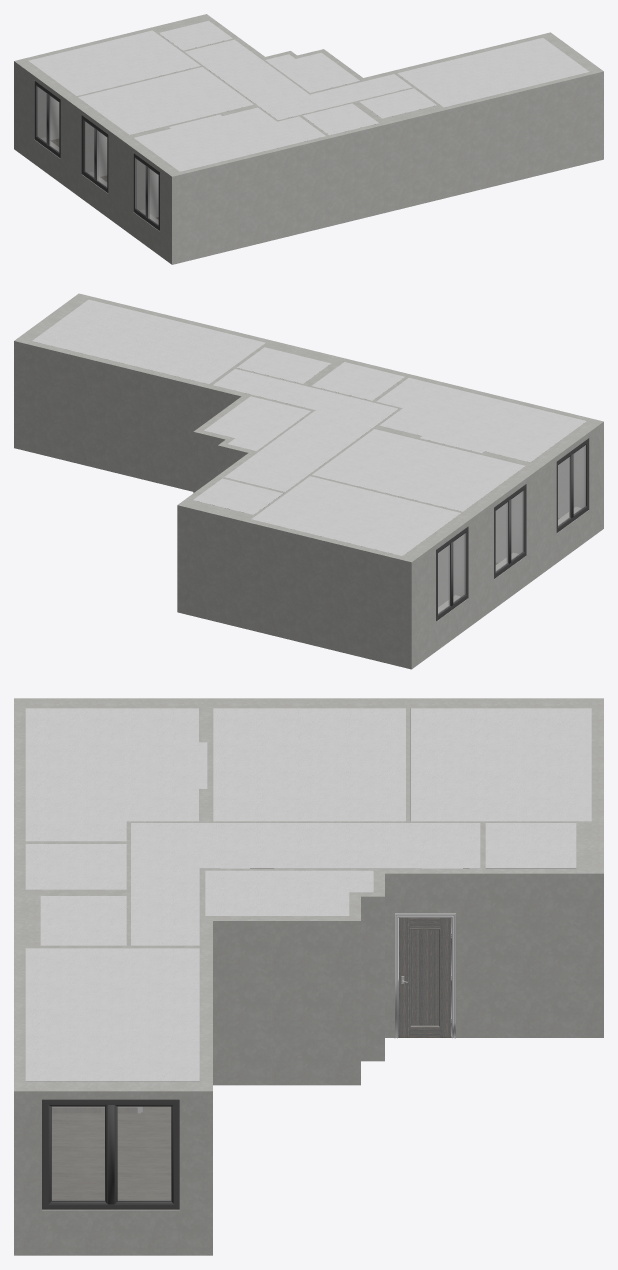
File: apt-3room.glb
3 views of the same model, one above another, from view 1: azimuth 30°, elevation 25°; view 2: azimuth 150°, elevation 25°; view 3: azimuth 270°, elevation 25° (orthographic). The views are drawn at different scales.
Visible parts, largest first — view 1: Walls, Ceiling, B_2_4_1Exterior_Glass.001, B_2_4_2_Exterior_Glass..001, B_2_1_1_PVC_Window_Frame.002, B_2_4_1Exterior_Glass.002, B_2_4_1Exterior_Glass.003, B_2_4_2_Exterior_Glass..003, B_2_4_2_Exterior_Glass..002, B_2_1_1_PVC_Window_Frame.003, B_2_1_1_PVC_Window_Frame.001, B_2_4_3_Interior_Glass..002 (+5 smaller); view 2: Walls, Ceiling, B_2_4_1Exterior_Glass.002, B_2_4_1Exterior_Glass.003, B_2_4_3_Interior_Glass..002, B_2_4_1Exterior_Glass.001, B_2_4_2_Exterior_Glass..002, B_2_4_2_Exterior_Glass..001, B_2_4_2_Exterior_Glass..003, B_2_1_1_PVC_Window_Frame.002, B_2_4_3_Interior_Glass..001, B_2_4_4_Interior_Glass.002 (+5 smaller); view 3: Ceiling, Walls, Floor, Shaker_Door_1981 _762, B_2_4_1Exterior_Glass, B_2_4_2_Exterior_Glass., B_2_4_3_Interior_Glass., B_2_4_4_Interior_Glass, B_2_1_1_PVC_Window_Frame, Basic_Door_Frame_1981_762, B_2_3_1_Frame_Glass, B_2_3_2_Frame_Glass.
Part boxes in pixels (x1,y1,x2,y2): Walls: (14,14,603,264); Ceiling: (28,20,589,171); B_2_4_1Exterior_Glass.001: (148,168,158,224); B_2_4_2_Exterior_Glass..001: (135,158,145,215); B_2_1_1_PVC_Window_Frame.002: (81,115,108,192); B_2_4_1Exterior_Glass.002: (97,130,106,187); B_2_4_1Exterior_Glass.003: (49,96,58,152); B_2_4_2_Exterior_Glass..003: (37,86,46,142); B_2_4_2_Exterior_Glass..002: (84,121,93,177); B_2_1_1_PVC_Window_Frame.003: (34,81,60,158); B_2_1_1_PVC_Window_Frame.001: (133,153,159,230); B_2_4_3_Interior_Glass..002: (97,131,106,186); Walls: (14,293,603,669); Ceiling: (32,299,586,555); B_2_4_1Exterior_Glass.002: (511,491,523,560); B_2_4_1Exterior_Glass.003: (453,533,465,602); B_2_4_3_Interior_Glass..002: (511,491,523,559); B_2_4_1Exterior_Glass.001: (574,445,585,514); B_2_4_2_Exterior_Glass..002: (496,502,507,571); B_2_4_2_Exterior_Glass..001: (558,457,569,525); B_2_4_2_Exterior_Glass..003: (438,545,449,613); B_2_1_1_PVC_Window_Frame.002: (494,484,526,578); B_2_4_3_Interior_Glass..001: (574,445,585,514); B_2_4_4_Interior_Glass.002: (496,502,507,571); Ceiling: (25,708,591,1081); Walls: (14,698,603,1255); Floor: (52,1036,451,1199); Shaker_Door_1981 _762: (398,917,451,1037); B_2_4_1Exterior_Glass: (52,1107,104,1200); B_2_4_2_Exterior_Glass.: (118,1107,170,1200); B_2_4_3_Interior_Glass.: (52,1107,104,1200); B_2_4_4_Interior_Glass: (118,1107,170,1200); B_2_1_1_PVC_Window_Frame: (42,1099,179,1209); Basic_Door_Frame_1981_762: (394,913,455,1038); B_2_3_1_Frame_Glass: (48,1105,107,1203); B_2_3_2_Frame_Glass: (115,1105,173,1203).
Size of the model in its own units: 14.86 by 2.92 by 9.43.
42 materials, 16 textured.
